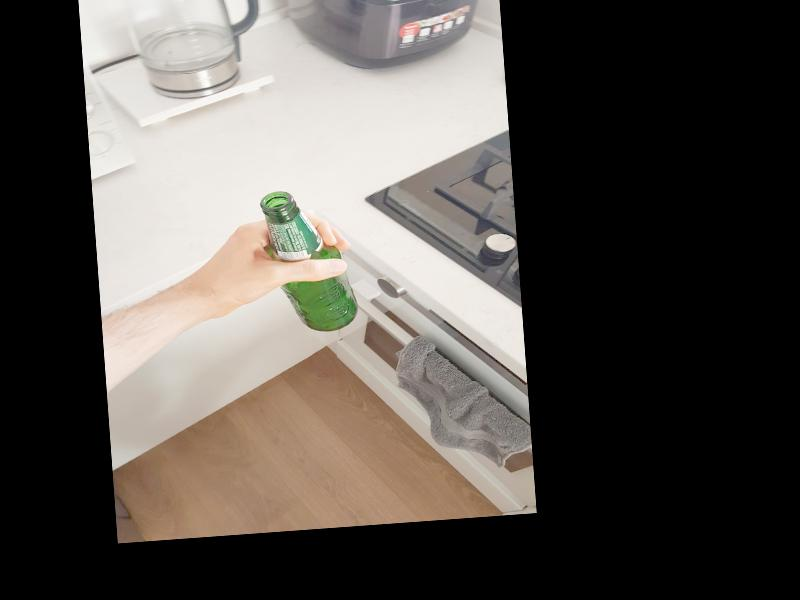Beer: (259, 187, 359, 336)
